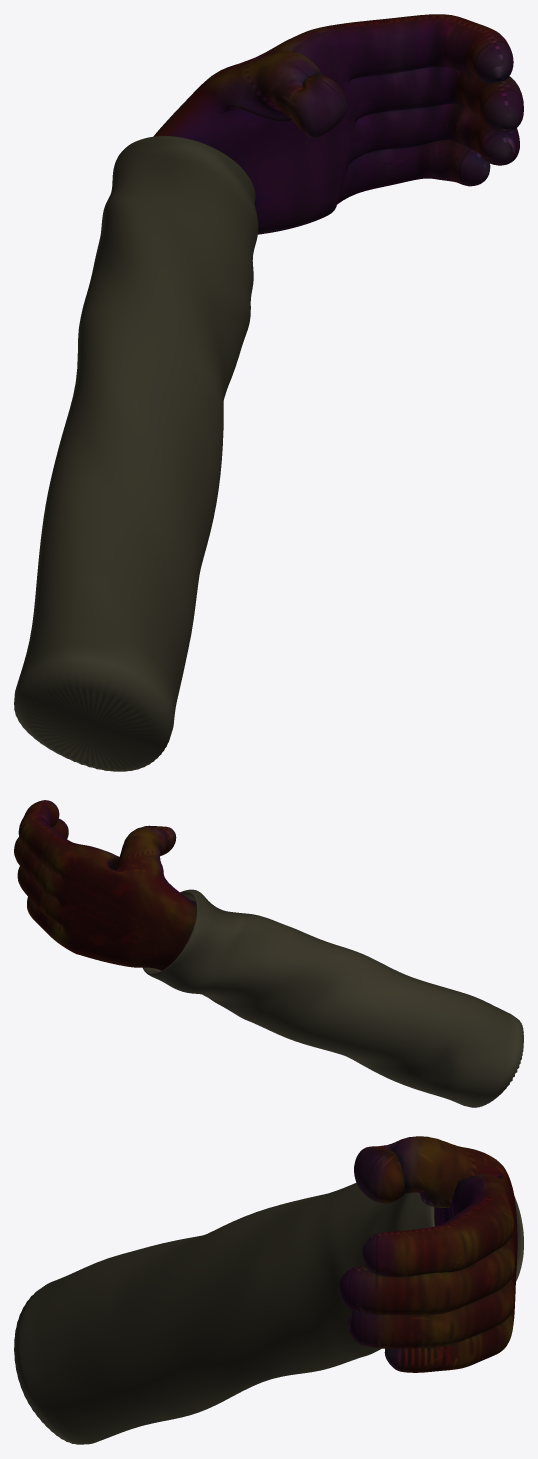
Rendered from fp_hand_L_wide.glb.
3 views of the same model, one above another, from view 1: azimuth 30°, elevation 25°; view 2: azimuth 150°, elevation 25°; view 3: azimuth 270°, elevation 25° (orthographic). The views are drawn at different scales.
Parts seen in each view (by area): view 1: fp_hand_L_wide; view 2: fp_hand_L_wide; view 3: fp_hand_L_wide.
Part boxes in pixels (bbox=[...]): fp_hand_L_wide: bbox=[14, 14, 523, 771]; fp_hand_L_wide: bbox=[14, 800, 523, 1107]; fp_hand_L_wide: bbox=[14, 1136, 523, 1444].
Size of the model in its own units: 0.3373 by 0.2464 by 0.2453.
Materials: 2 (1 with a texture image).
